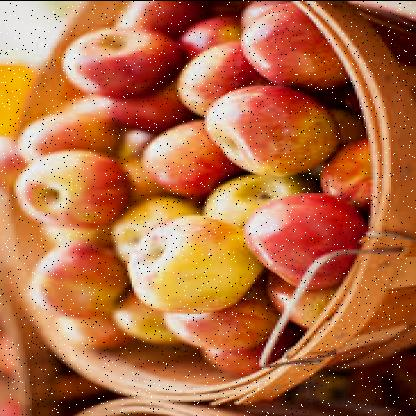apple: (243, 194, 366, 292), (132, 215, 241, 313), (209, 91, 323, 177), (59, 18, 175, 98), (234, 4, 346, 84), (24, 236, 121, 318), (16, 148, 112, 226), (138, 119, 216, 196)
